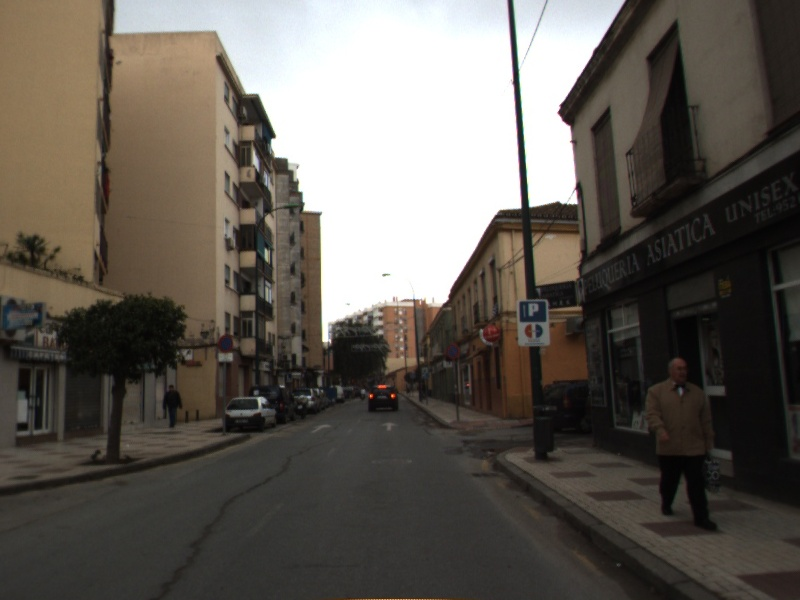STRAIGHT: (308, 422, 334, 435), (379, 420, 401, 433)
